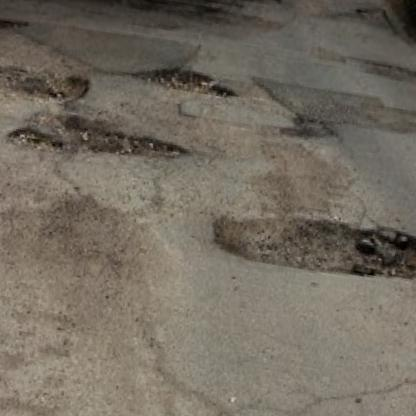pothole: (208, 203, 416, 293), (64, 119, 194, 170), (0, 57, 93, 108), (133, 63, 239, 102), (9, 125, 65, 162), (283, 115, 335, 145), (357, 3, 396, 29), (0, 14, 29, 34), (230, 0, 280, 6)
